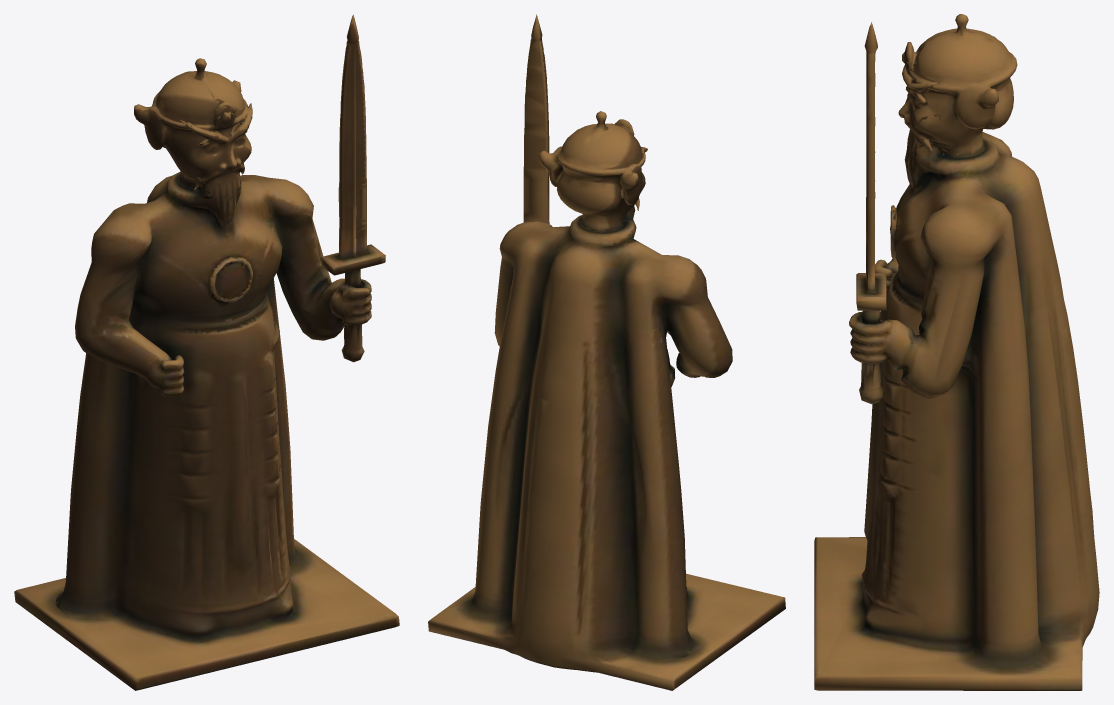
File: hophap_ac.glb
3 views of the same model, side by side, from view 1: azimuth 30°, elevation 25°; view 2: azimuth 150°, elevation 25°; view 3: azimuth 270°, elevation 25° (orthographic). The views are drawn at different scales.
Parts seen in each view (by area): view 1: hophap_ac; view 2: hophap_ac; view 3: hophap_ac.
Part boxes in pixels (x1,y1,x2,y2): hophap_ac: (14, 14, 399, 690); hophap_ac: (428, 14, 785, 690); hophap_ac: (814, 14, 1099, 690).
Size of the model in its own units: 1.02 by 2.17 by 0.8505.
Materials: 1 (1 with a texture image).
